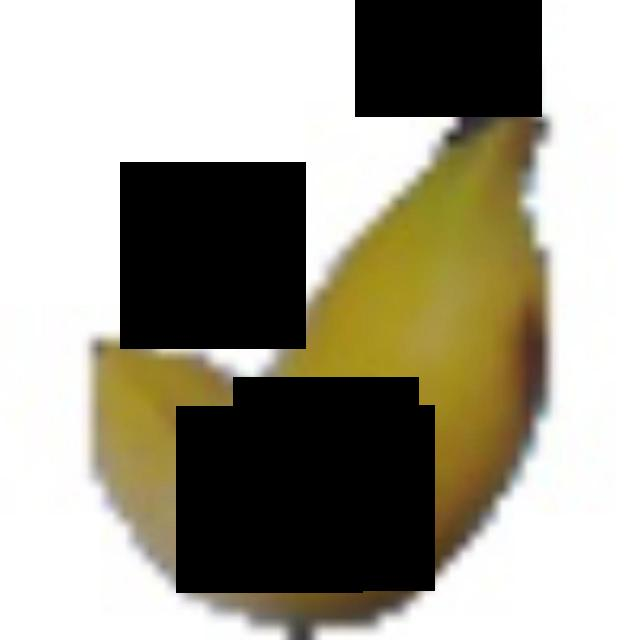banana: (57, 0, 557, 634)
